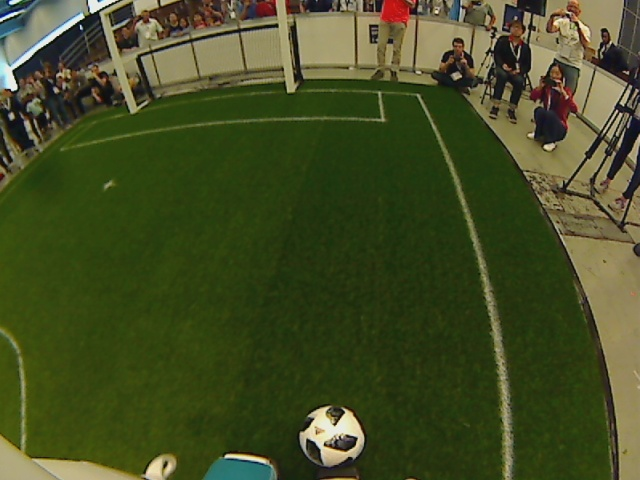ball: (294, 402, 367, 471)
goalpost: (97, 1, 298, 117)
